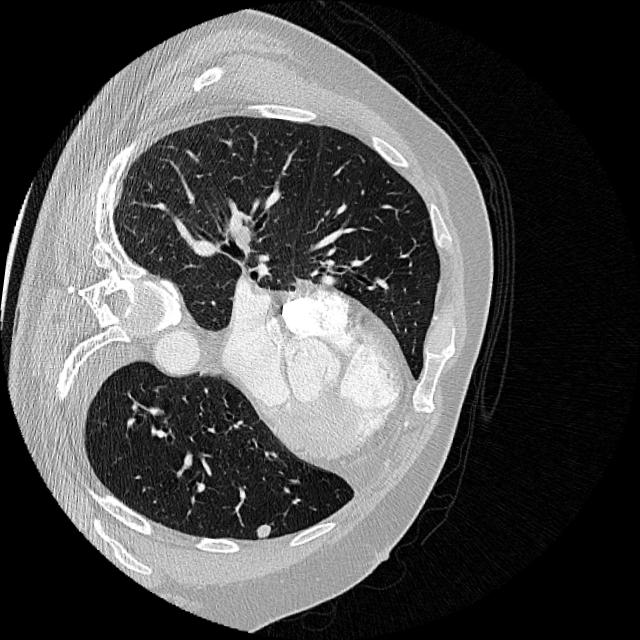nodule: (246, 512, 282, 548)
